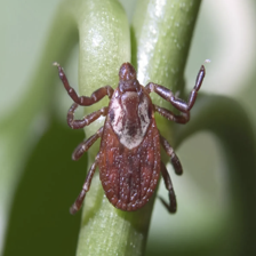Dermacentor variabilis: (55, 60, 207, 215)
